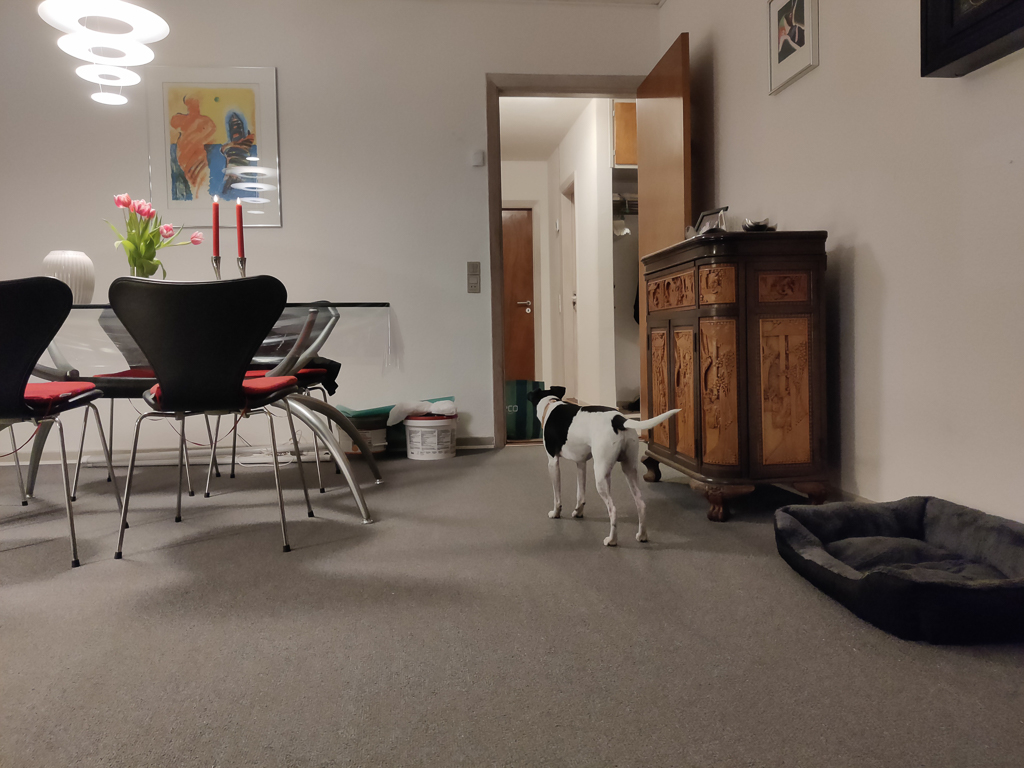Dog: (517, 374, 684, 555)
